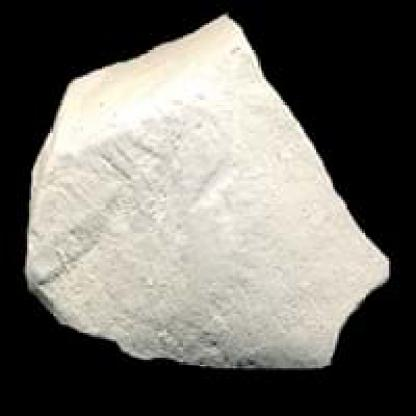Sedimentary_Chalk: (12, 14, 389, 374)
